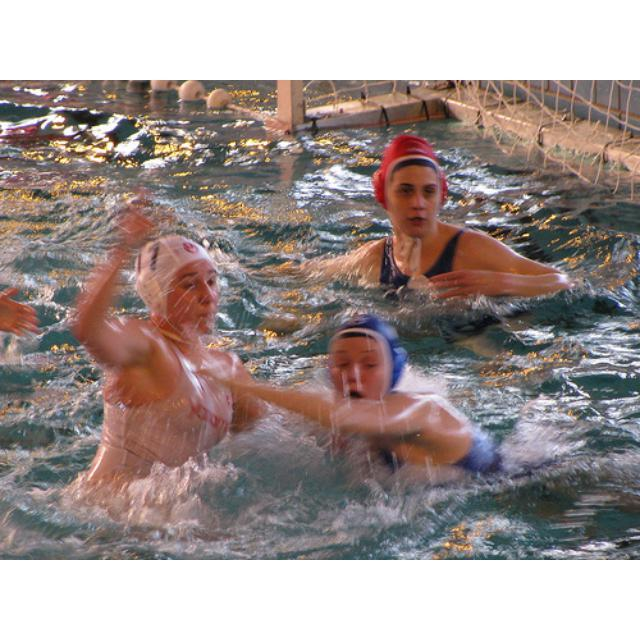human: (73, 234, 250, 501), (267, 316, 503, 487), (334, 131, 559, 308)
